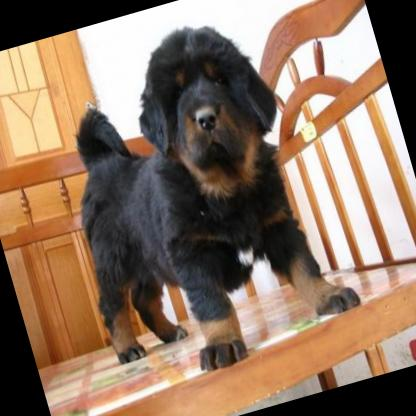Tibetan_mastiff: (21, 0, 370, 398)
